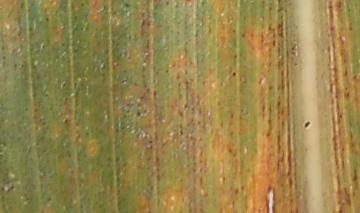tarspot: (135, 110, 142, 118), (232, 70, 237, 79)
